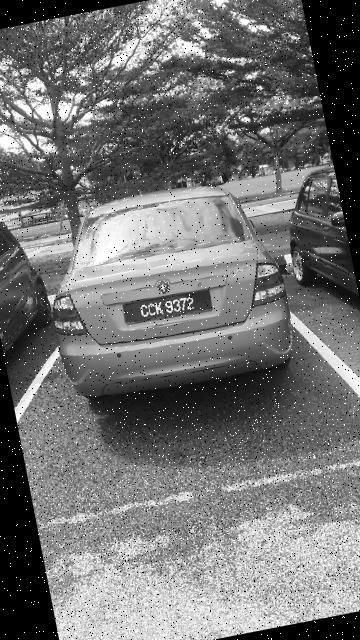License_Plate: (119, 282, 217, 328)
car: (33, 155, 310, 421)
